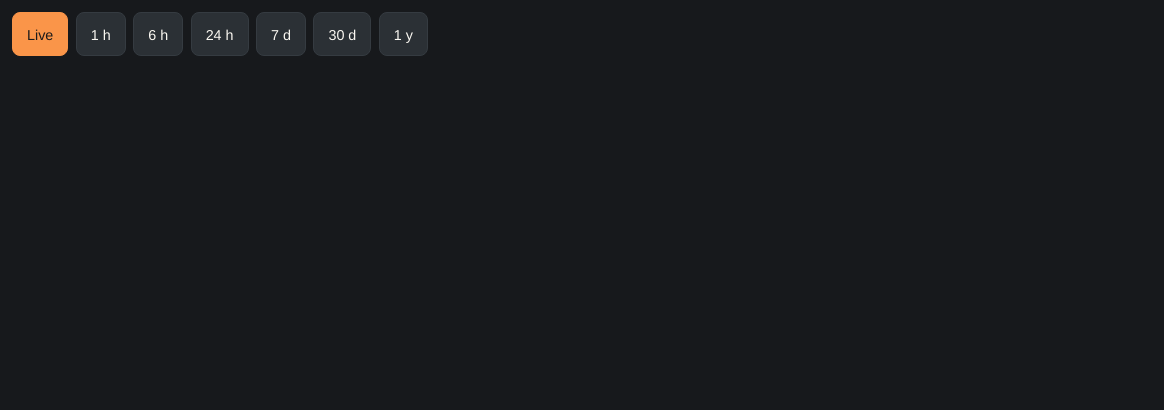
PowerHistorySection › has no fuse badge when the newest bucket is fine, even if an earlier one tripped
Click the button "24 h" at (220, 34), box [191,12,248,56]
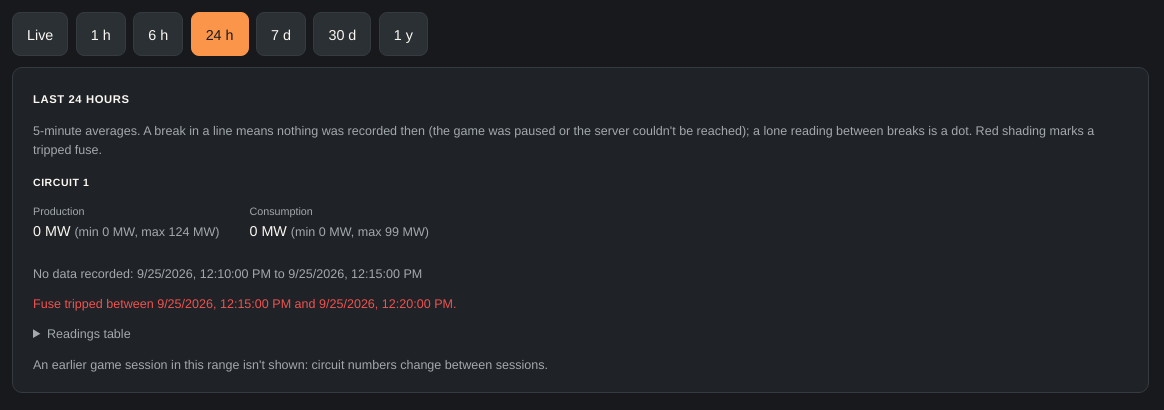
Expected: the heading "Last 24 hours" is shown, [33,88,130,106]
Expected: the text "Fuse tripped between" is shown, [33,295,157,311]
